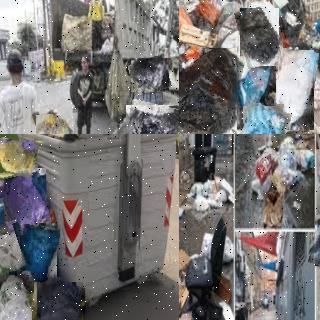Garbage: (179, 44, 241, 134), (274, 49, 317, 131), (1, 166, 50, 236), (237, 6, 282, 68), (18, 225, 59, 283), (32, 279, 87, 320), (123, 102, 179, 134), (129, 56, 171, 94), (239, 103, 289, 134), (0, 221, 29, 273), (0, 275, 33, 320), (0, 139, 36, 176), (34, 114, 73, 134), (311, 214, 320, 266), (0, 196, 11, 235)
